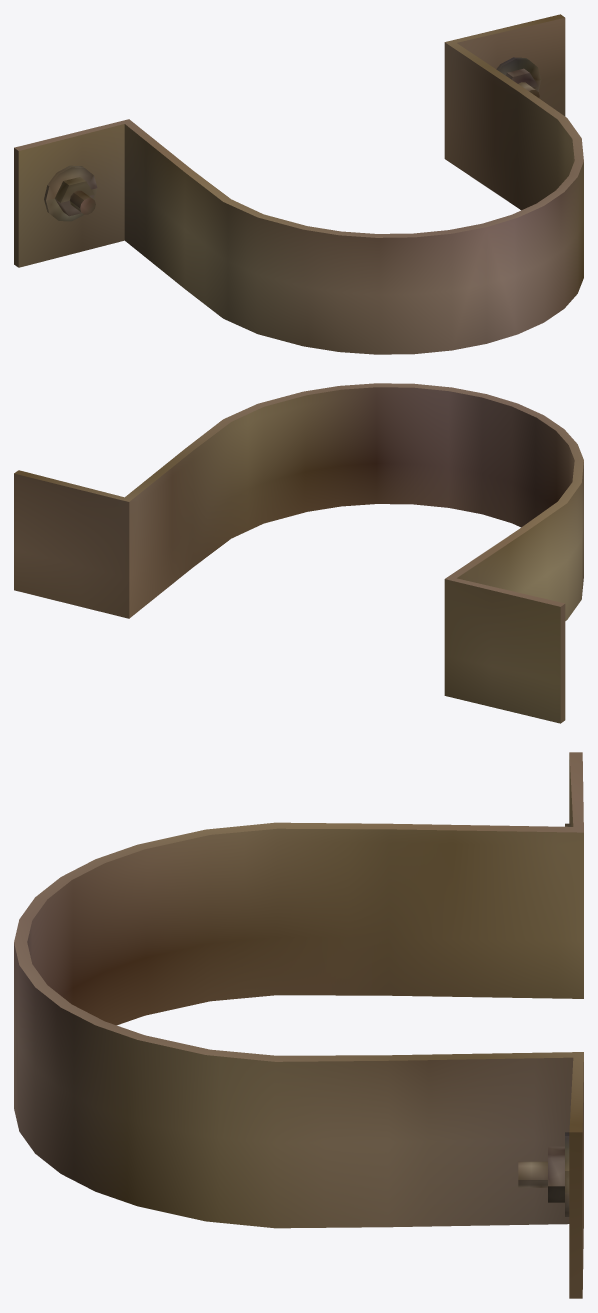
Rendered from pipe-clamp.gltf.
3 renders of one model, top to bottom at view 1: azimuth 30°, elevation 25°; view 2: azimuth 150°, elevation 25°; view 3: azimuth 270°, elevation 25°, orthographic. The views are drawn at different scales.
Visible parts, largest first — view 1: Cylinder.002; view 2: Cylinder.002; view 3: Cylinder.002.
Part boxes in pixels (bbox=[...]): Cylinder.002: bbox=[14, 14, 583, 354]; Cylinder.002: bbox=[14, 383, 583, 723]; Cylinder.002: bbox=[14, 752, 583, 1298].
Bounding box in the file's own units: 0.4345 × 0.0887 × 0.2753.
1 material, 1 textured.
